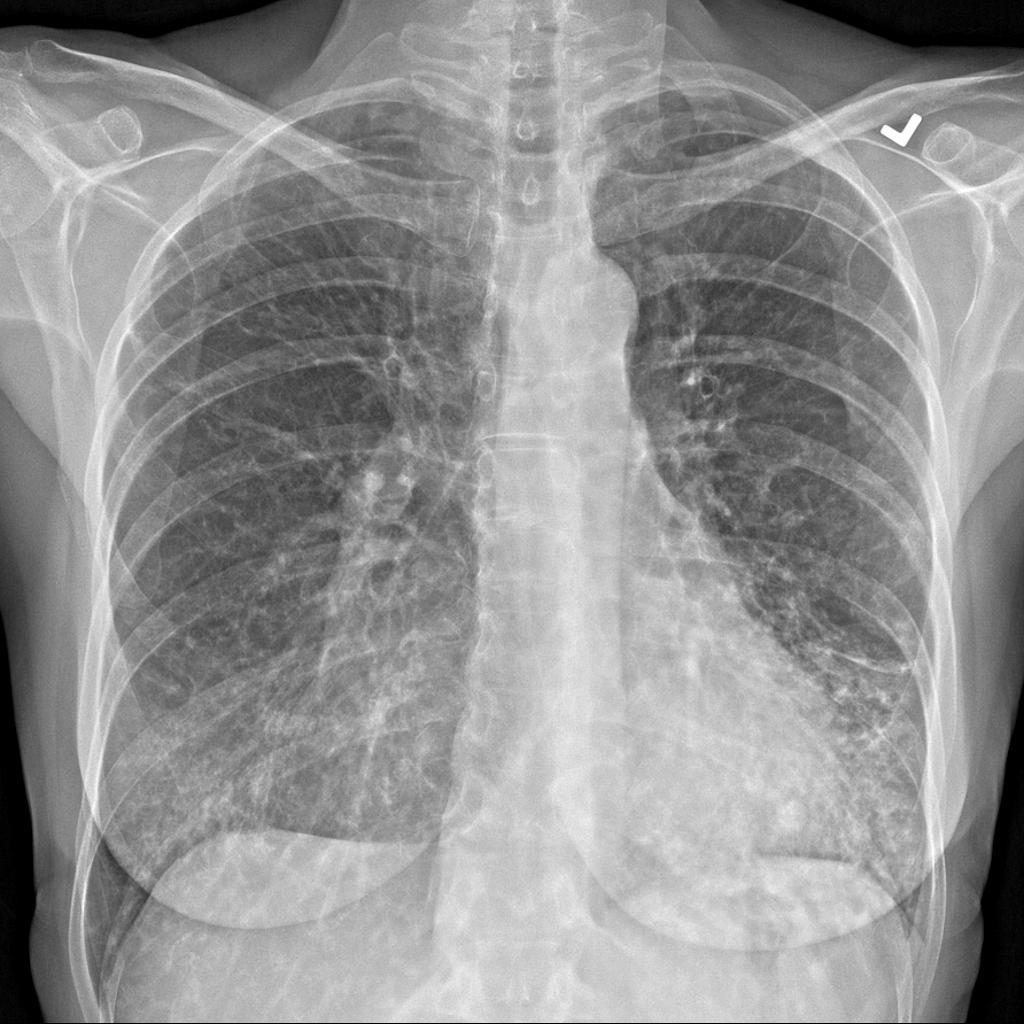Nodule: (772, 796, 810, 835)
